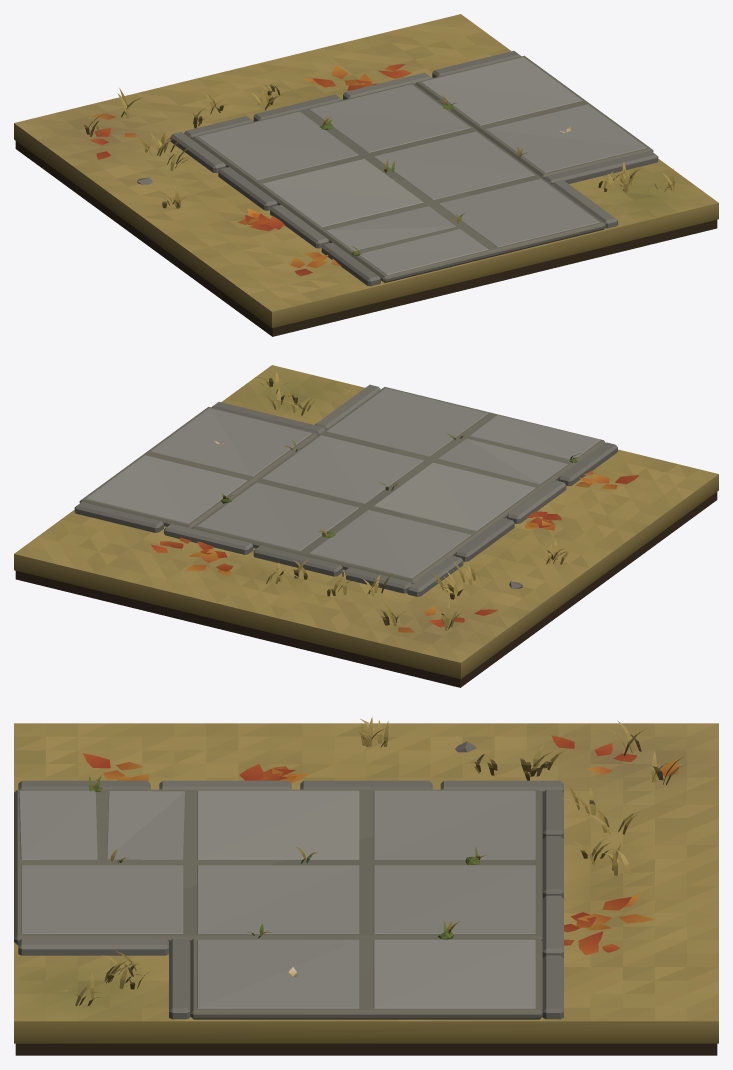
File: road-sidewalk-corner-01.glb
3 renders of one model, top to bottom at view 1: azimuth 30°, elevation 25°; view 2: azimuth 150°, elevation 25°; view 3: azimuth 270°, elevation 25°, orthographic. The views are drawn at different scales.
Parts seen in each view (by area): view 1: road_sidewalk_corner_01; view 2: road_sidewalk_corner_01; view 3: road_sidewalk_corner_01.
Boxes of the visible parts, x1,y1,x2,y2 form: road_sidewalk_corner_01: (14, 14, 718, 336); road_sidewalk_corner_01: (14, 365, 718, 687); road_sidewalk_corner_01: (14, 717, 718, 1055).
Size of the model in its own units: 4 by 0.4092 by 4.
